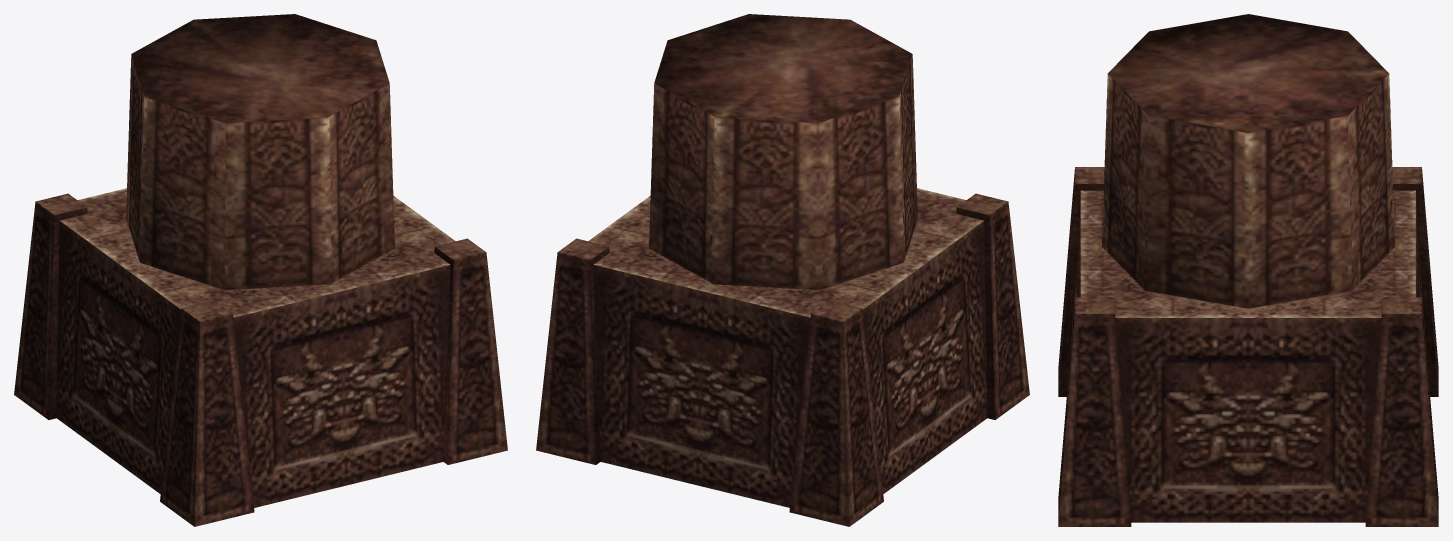
File: general_obj_bigtower09.glb
3 renders of one model, left to right at view 1: azimuth 30°, elevation 25°; view 2: azimuth 150°, elevation 25°; view 3: azimuth 270°, elevation 25°, orthographic. The views are drawn at different scales.
Visible parts, largest first — view 1: Sphere01; view 2: Sphere01; view 3: Sphere01.
Part boxes in pixels (<box>): Sphere01: <box>14,14,507,526</box>; Sphere01: <box>536,14,1029,526</box>; Sphere01: <box>1058,14,1438,526</box>.
Size of the model in its own units: 5.22 by 5.64 by 5.21.
1 material, 1 textured.
